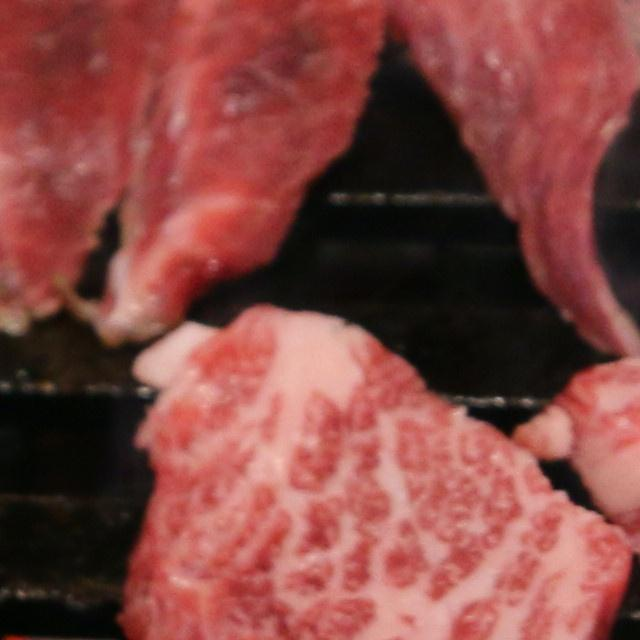beef: (230, 402, 541, 640)
